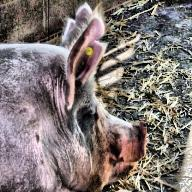boar: (0, 2, 146, 192)
